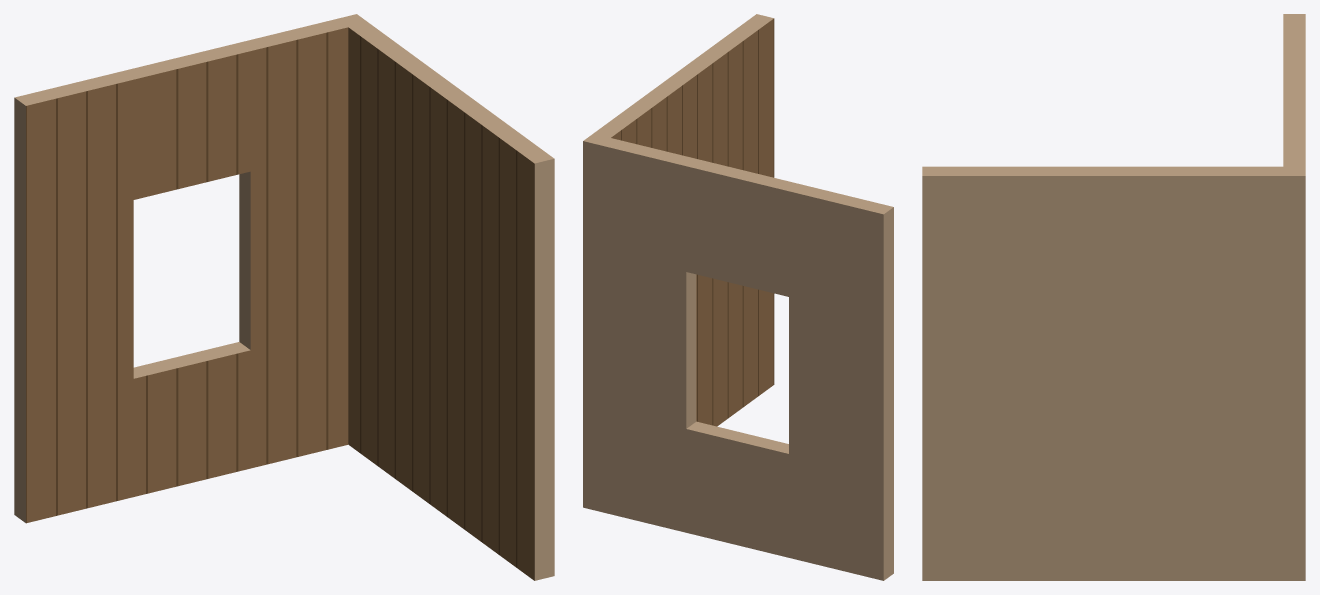
File: Wall2_C9_07.fbx
The picture shows the model from 3 angles, left to right: view 1: azimuth 30°, elevation 25°; view 2: azimuth 150°, elevation 25°; view 3: azimuth 270°, elevation 25°; orthographic projection. The views are drawn at different scales.
Parts seen in each view (by area): view 1: Wall2_C9_07; view 2: Wall2_C9_07; view 3: Wall2_C9_07.
Part boxes in pixels (box(x1,y1,x2,y2)): Wall2_C9_07: box(14, 14, 554, 580); Wall2_C9_07: box(583, 14, 893, 580); Wall2_C9_07: box(922, 14, 1305, 580).
Bounding box in the file's own units: 258 × 300 × 258.
